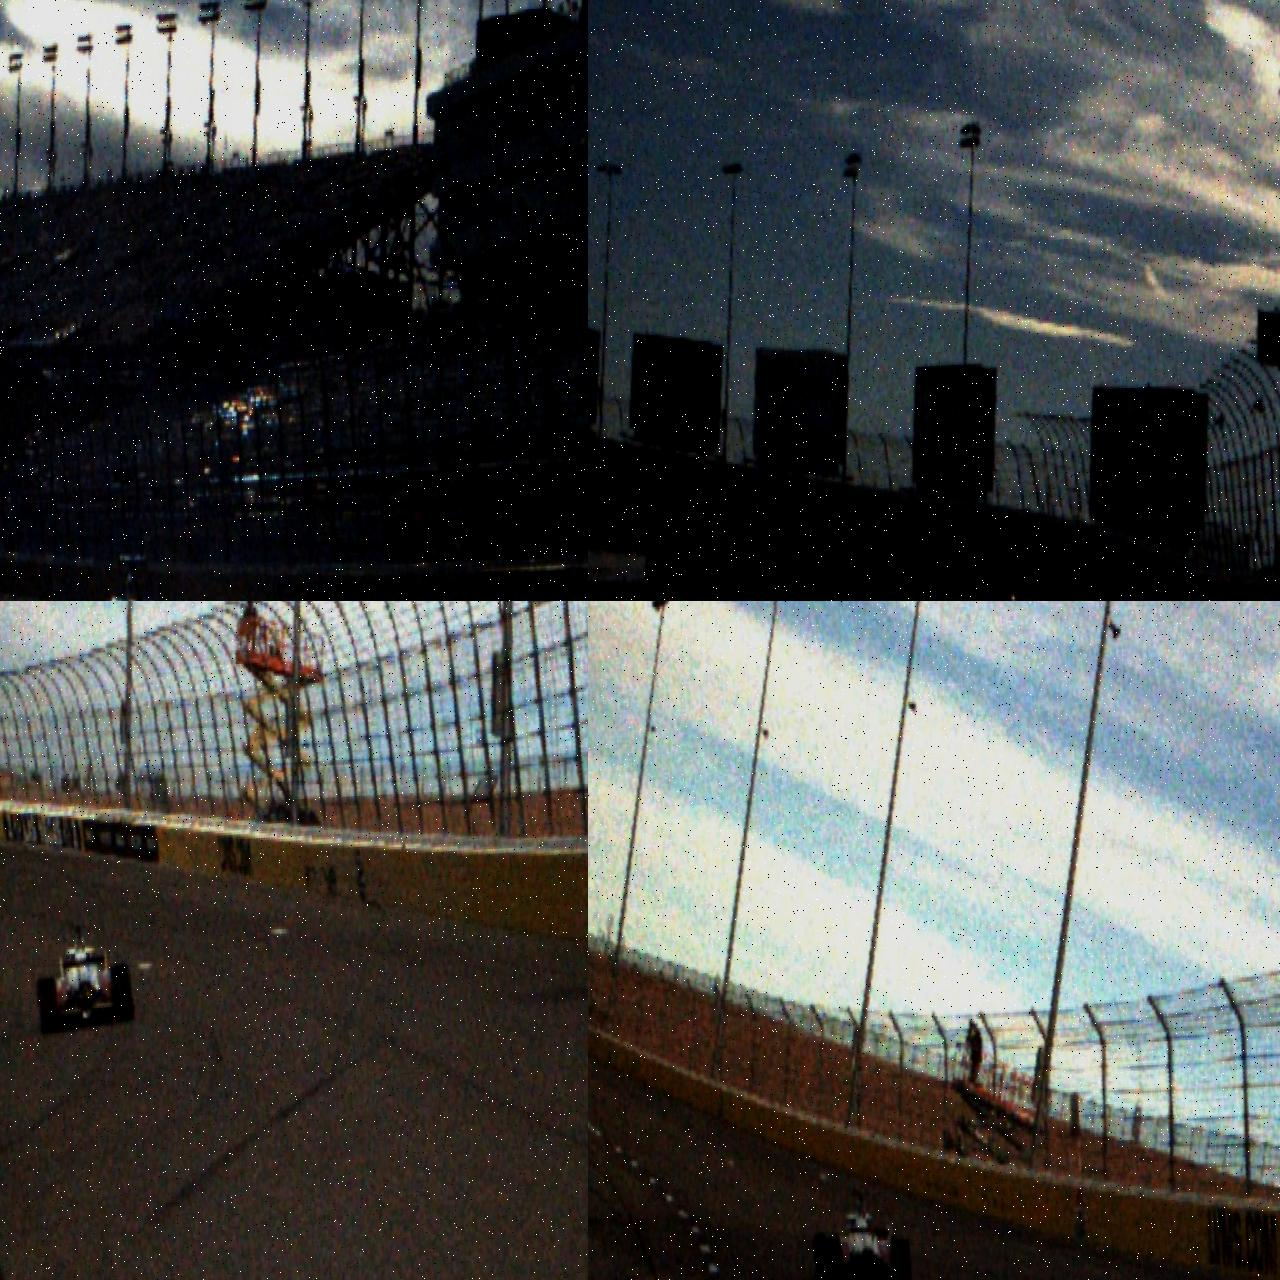AV: (34, 920, 134, 1034), (807, 1185, 912, 1280), (44, 548, 232, 601), (972, 583, 1051, 601)
Wheel: (110, 962, 134, 1022), (37, 978, 59, 1034), (821, 1236, 842, 1280), (891, 1237, 912, 1280), (810, 1231, 828, 1280)
